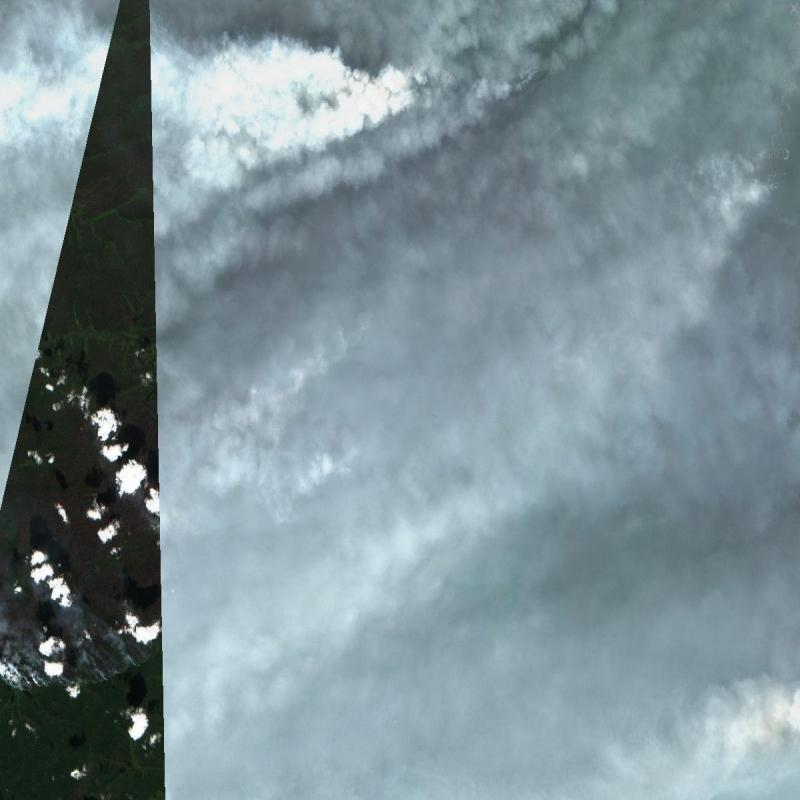fire: (2, 619, 154, 702)
